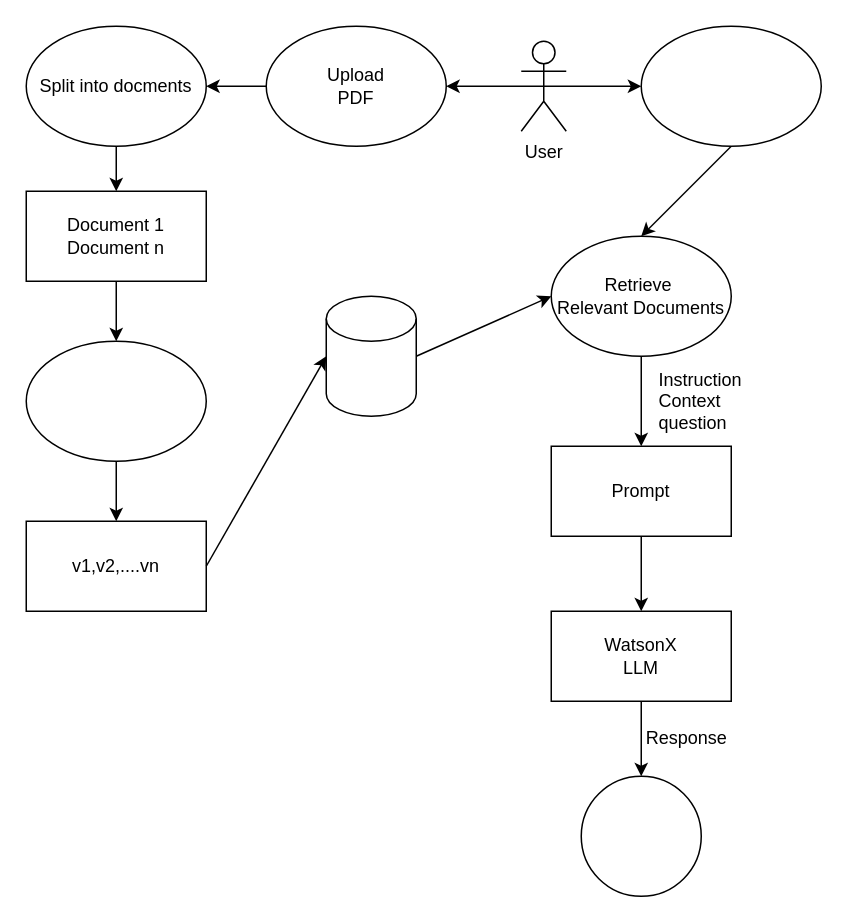
Some shapes in this 848 by 923 pixel diagram are drawn without their labels. Each missing label, with the centre of its shape:
"Ask Question" belongs at (730,85).
"Exit" belongs at (640,835).
"Generate Vectors" belongs at (115,400).
"Vector DB" belongs at (370,355).
